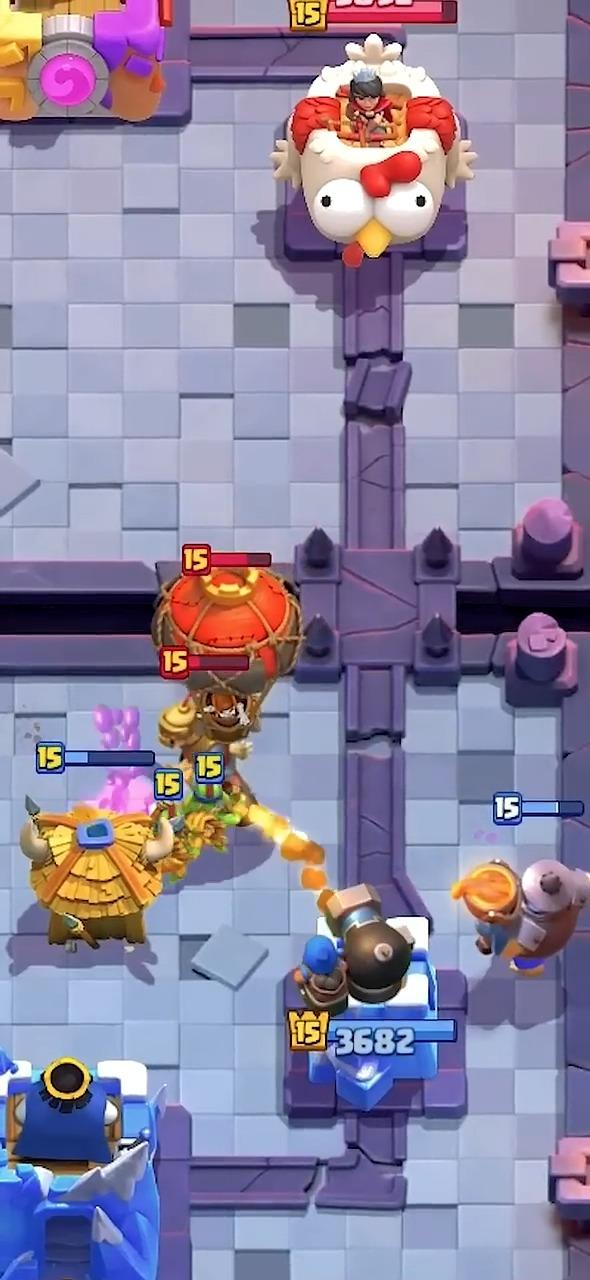baloon: (153, 553, 303, 743)
furnace: (452, 859, 589, 975)
goblin hut: (20, 803, 176, 949)
prince: (159, 697, 250, 785)
spear goblin: (172, 784, 238, 858)
